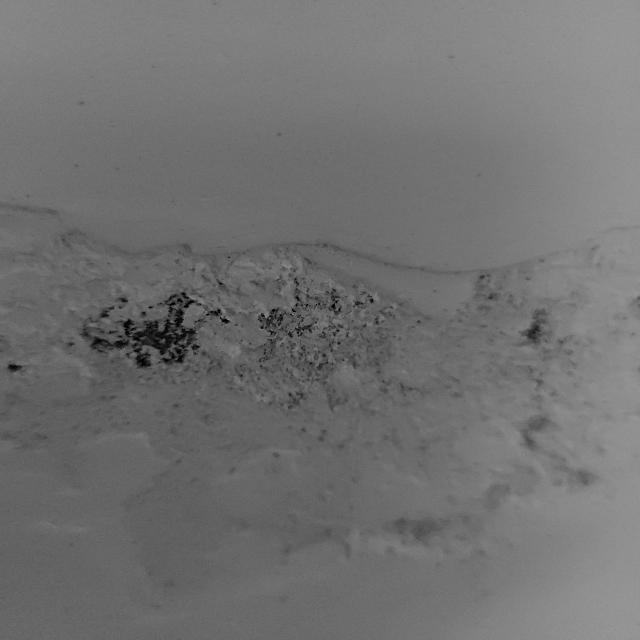rough and patchy surface: (13, 218, 627, 577)
